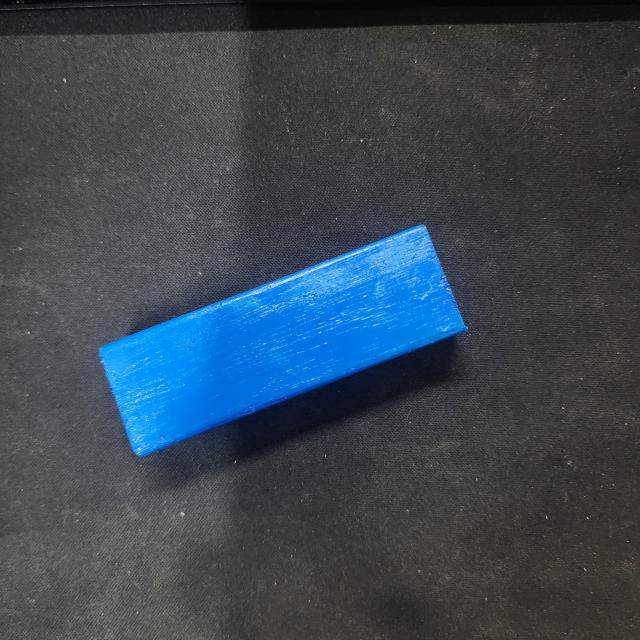blue: (94, 223, 469, 459)
